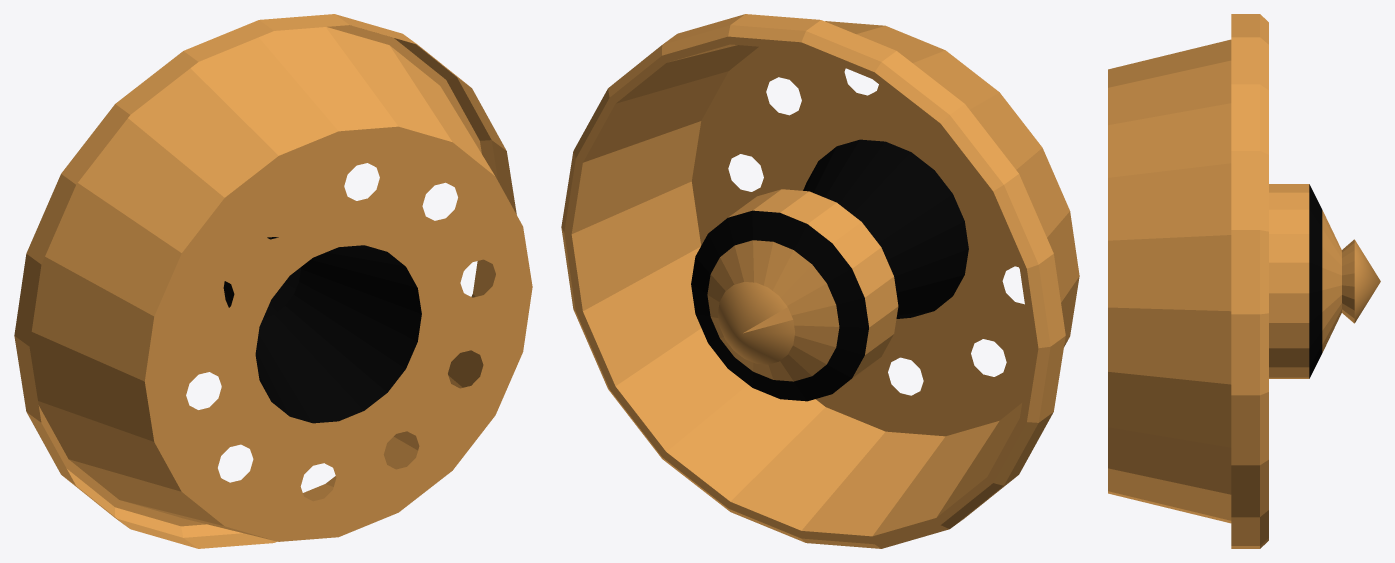
Rendered from Ring7_Rear.fbx.
The picture shows the model from 3 angles, left to right: view 1: azimuth 30°, elevation 25°; view 2: azimuth 150°, elevation 25°; view 3: azimuth 270°, elevation 25°; orthographic projection. The views are drawn at different scales.
Parts seen in each view (by area): view 1: polySurface14; view 2: polySurface14; view 3: polySurface14.
Part boxes in pixels (left/top/right/bottom): polySurface14: left=14, top=14, right=532, bottom=548; polySurface14: left=561, top=14, right=1079, bottom=548; polySurface14: left=1108, top=14, right=1380, bottom=548.
Size of the model in its own units: 0.0291 by 0.0291 by 0.0148.
